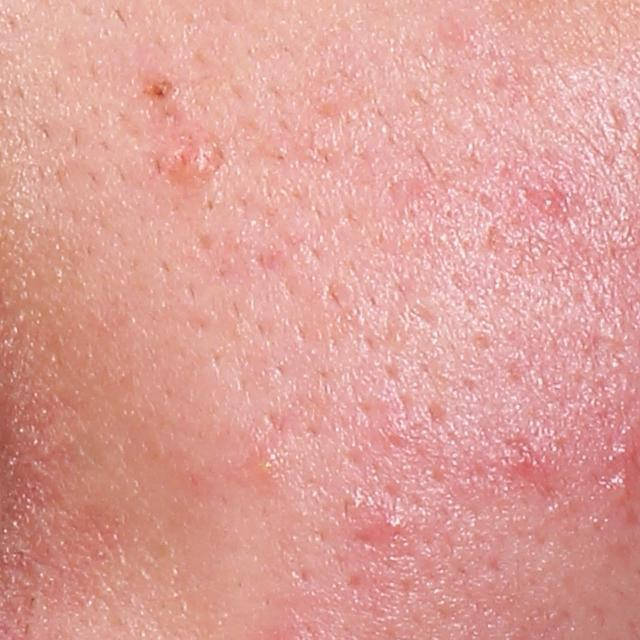papule: (362, 498, 422, 552), (169, 141, 225, 190), (531, 186, 569, 218)
